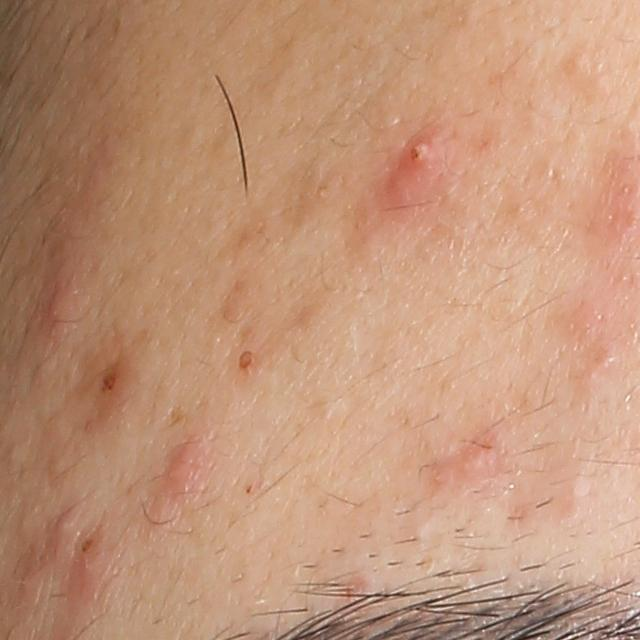comedo: (557, 49, 595, 88), (232, 348, 257, 374)
papule: (148, 437, 213, 531), (68, 530, 113, 610), (27, 283, 87, 340), (456, 439, 501, 485), (590, 340, 624, 377), (48, 512, 77, 543)
pustule: (392, 125, 449, 191)
